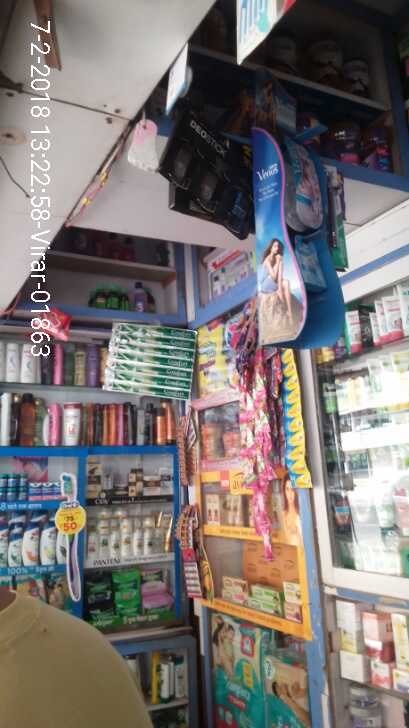beauty: (124, 457, 181, 498), (87, 509, 119, 562), (24, 519, 49, 566), (43, 520, 66, 564), (1, 519, 21, 565), (138, 513, 162, 551), (79, 460, 100, 500), (118, 517, 136, 562)
pharmacy: (209, 631, 263, 724), (265, 658, 306, 728), (94, 567, 139, 601), (26, 477, 66, 502), (1, 468, 30, 500), (136, 567, 169, 595)
